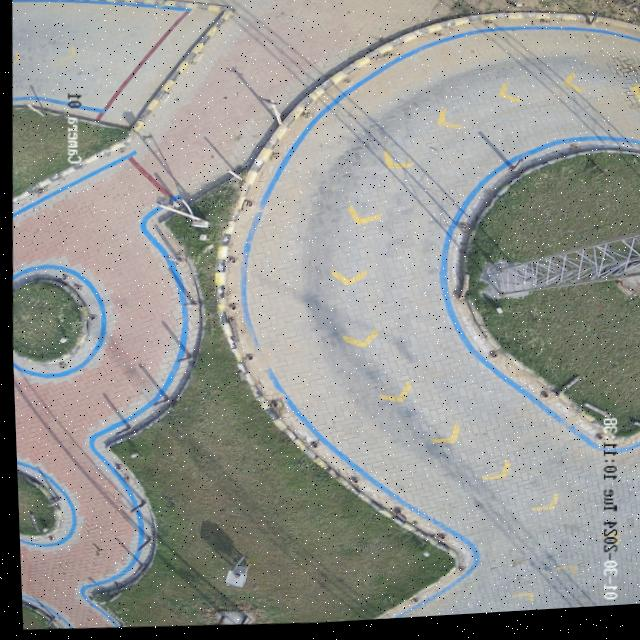No Car: (9, 0, 640, 629)
